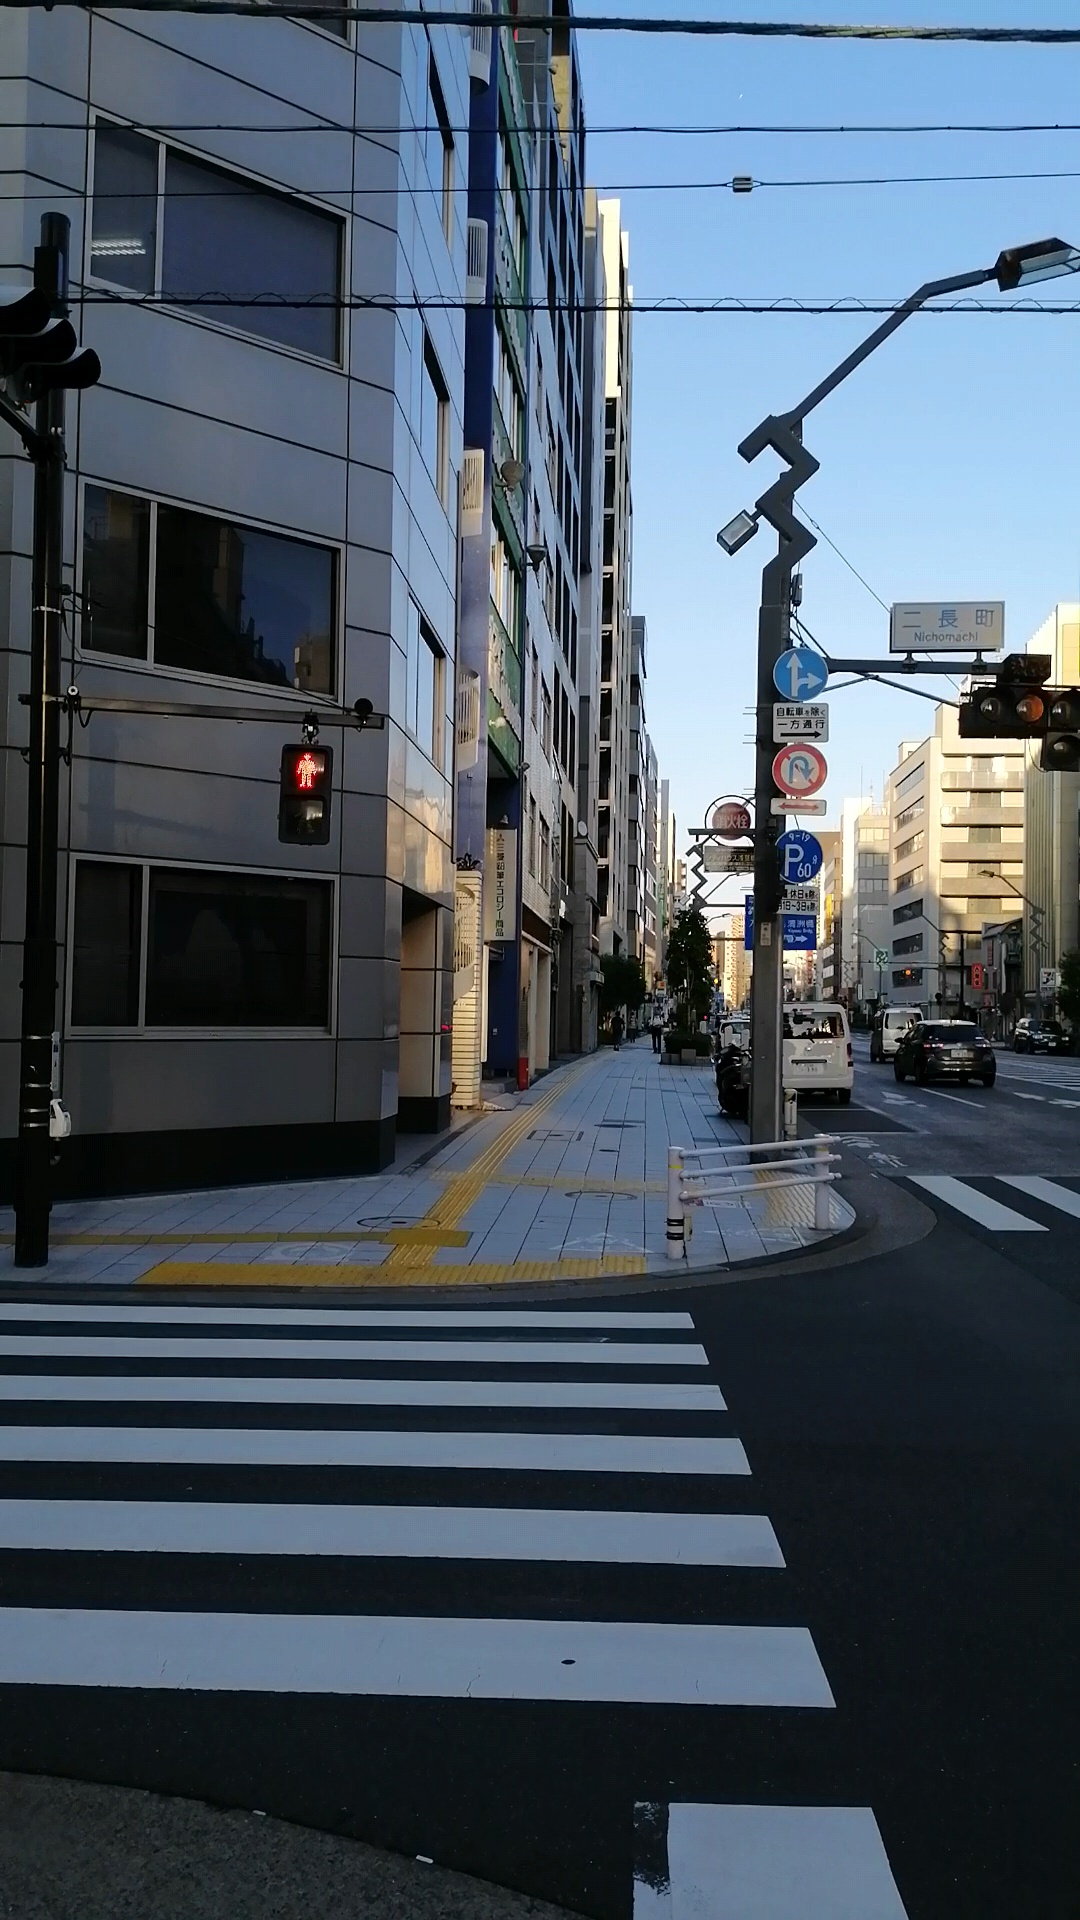red: (280, 744, 332, 844)
